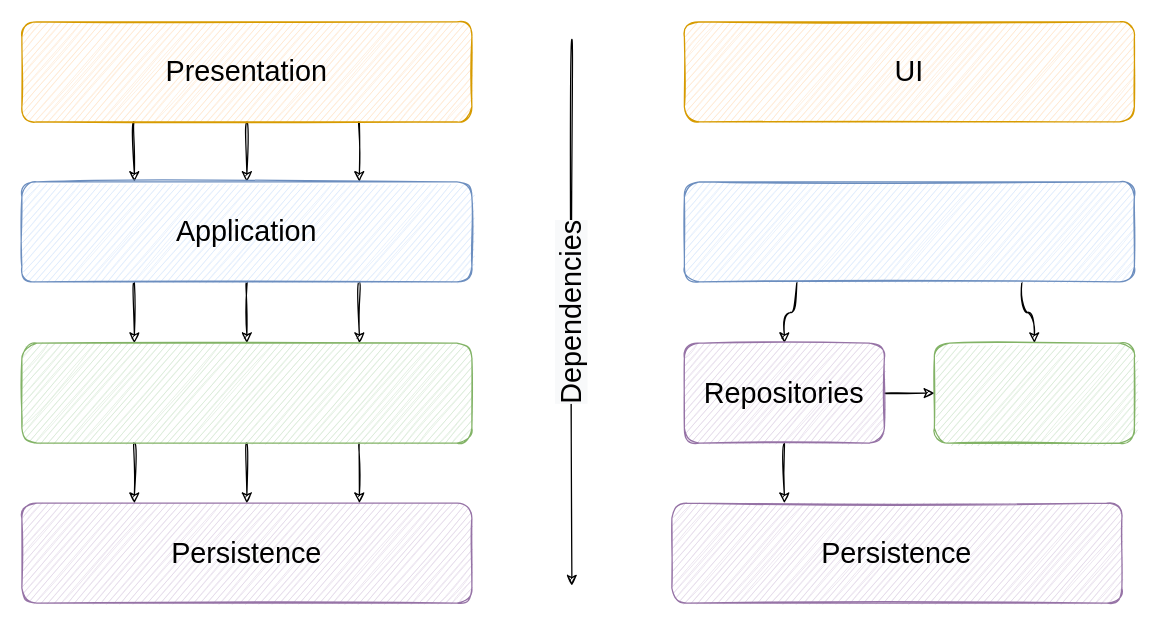
Image size: 1156x625. Some labels were removed from this diagram. The shapes that lost their labels are listed below. From the top down, each one's box as (x1, y1, x2, y2) in pixels, then its label:
(683, 181, 1134, 282): Service
(21, 342, 472, 443): Domain
(933, 342, 1134, 443): Aggregates
